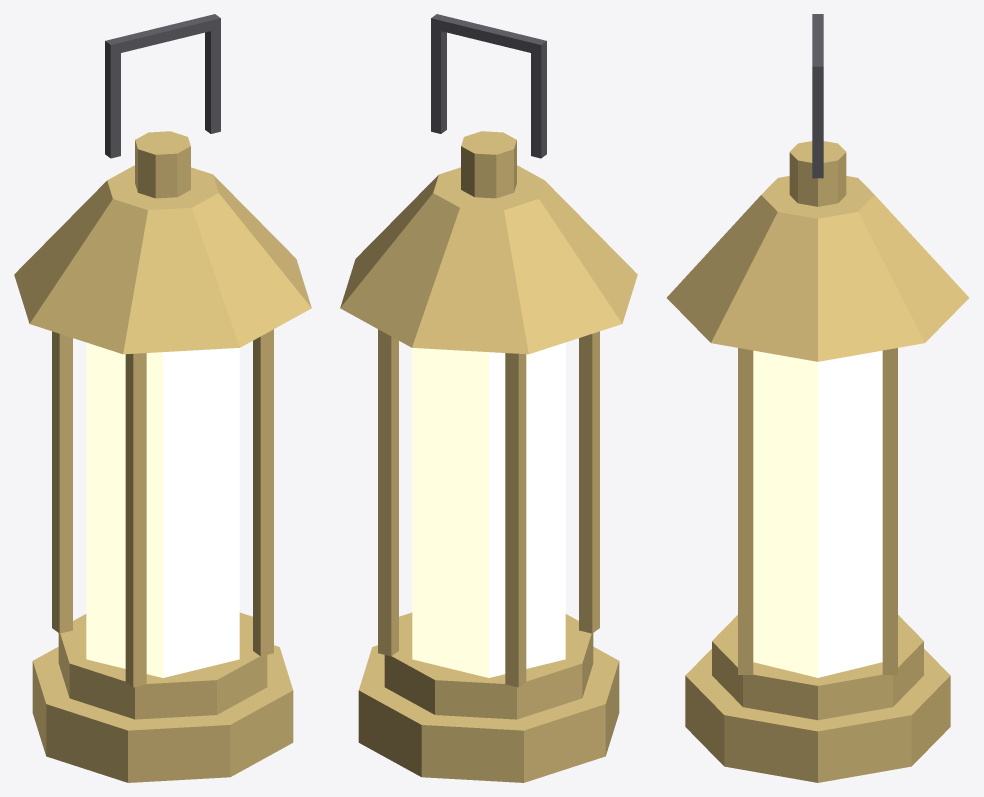
3 views of the same model, side by side, from view 1: azimuth 30°, elevation 25°; view 2: azimuth 150°, elevation 25°; view 3: azimuth 270°, elevation 25° (orthographic).
Bounding box in the file's own units: 0.16 × 0.4 × 0.16.
